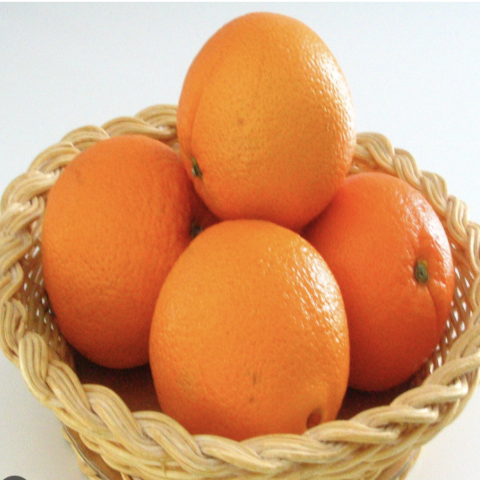orange: (143, 195, 364, 475), (20, 129, 213, 363), (165, 0, 356, 213), (294, 162, 470, 359)
